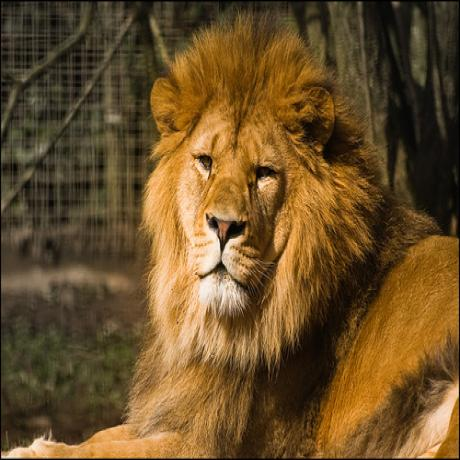Lion: (94, 9, 459, 460)
